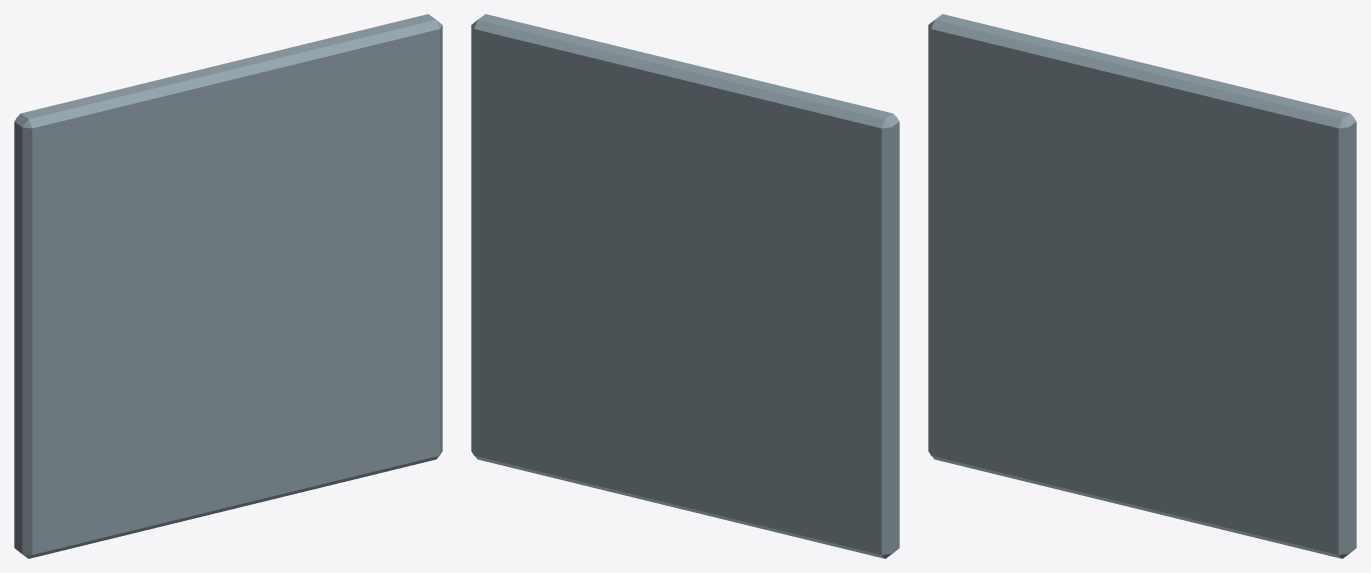
The model's file is wall.lod0.glb.
3 views of the same model, side by side, from view 1: azimuth 30°, elevation 25°; view 2: azimuth 150°, elevation 25°; view 3: azimuth 330°, elevation 25° (orthographic).
Visible parts, largest first — view 1: structure; view 2: structure; view 3: structure.
Part boxes in pixels (<box>): structure: <box>14,14,442,558</box>; structure: <box>471,14,899,558</box>; structure: <box>928,14,1356,558</box>.
Bounding box in the file's own units: 4 × 4 × 0.25.
